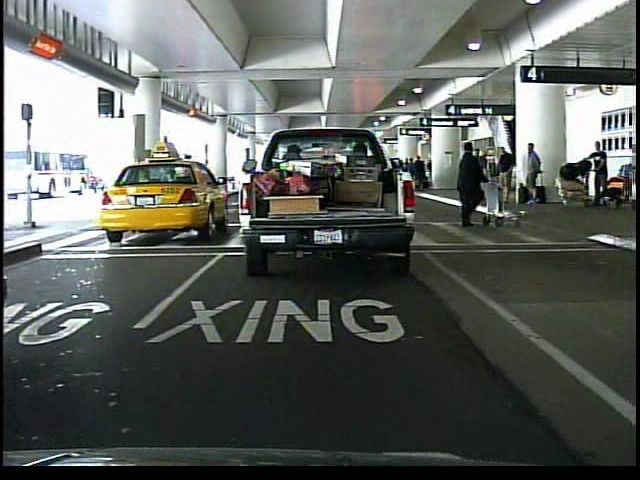person: (449, 143, 489, 233), (471, 146, 492, 219), (618, 139, 640, 206), (590, 139, 611, 203)
